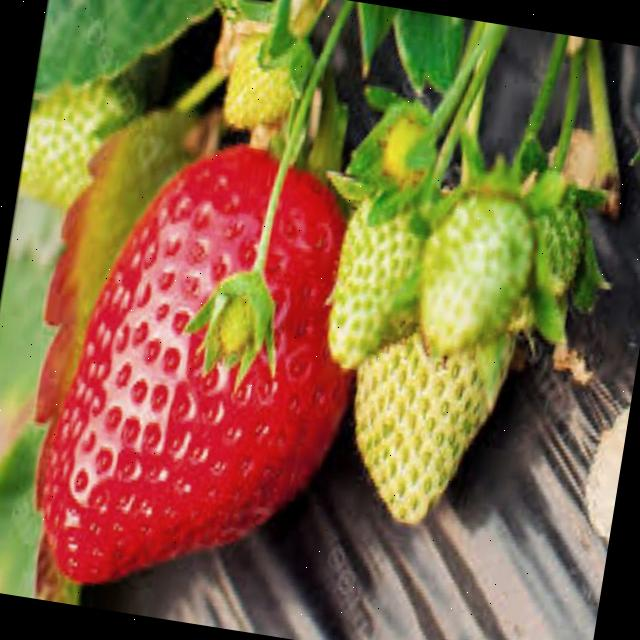strawberry: (28, 124, 384, 628), (332, 296, 514, 534), (321, 180, 436, 376), (408, 186, 536, 362), (220, 27, 298, 130), (210, 269, 270, 356)
